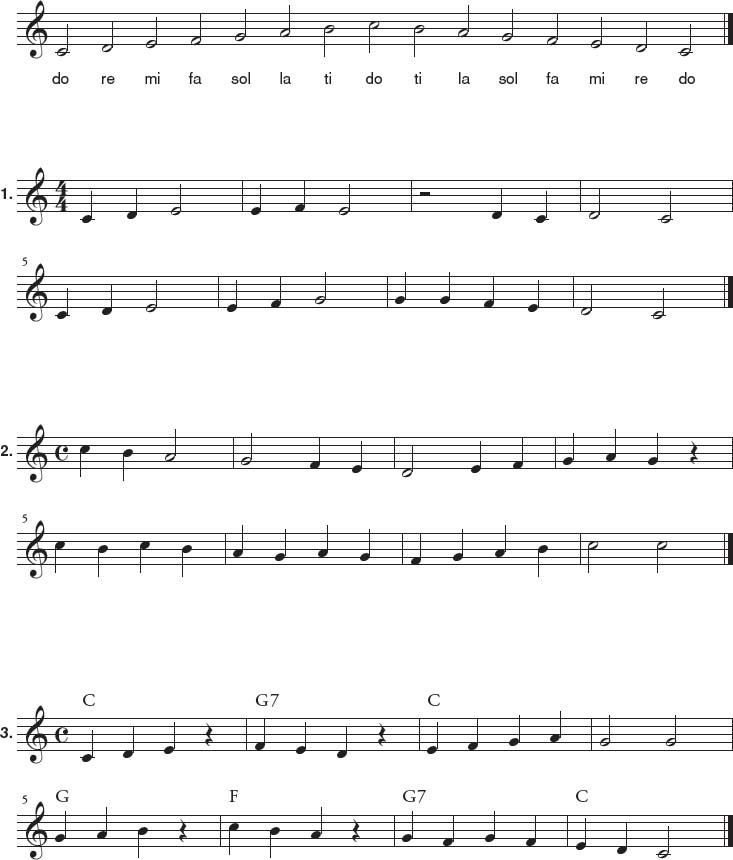half_down: (587, 541, 599, 574), (655, 539, 667, 572), (322, 23, 334, 56), (367, 19, 379, 52), (412, 23, 424, 56)
half_up: (57, 24, 69, 56), (101, 20, 113, 52), (145, 15, 157, 47), (189, 12, 201, 44), (234, 8, 246, 40), (279, 4, 291, 36), (170, 183, 182, 215), (338, 182, 350, 214), (457, 4, 469, 36), (501, 8, 513, 40), (546, 12, 558, 44), (590, 15, 602, 47), (635, 19, 647, 51), (679, 23, 691, 55), (659, 190, 671, 222), (588, 186, 600, 218), (580, 283, 592, 315), (145, 279, 157, 311), (314, 271, 326, 303), (652, 287, 664, 319), (401, 444, 413, 476), (240, 432, 252, 464), (164, 428, 176, 460), (600, 715, 611, 747), (665, 714, 676, 746), (658, 826, 669, 858)
quarter_down: (80, 445, 90, 478), (122, 448, 132, 481), (54, 539, 64, 572), (97, 543, 107, 576), (139, 540, 149, 573), (181, 543, 191, 576), (537, 542, 547, 575), (229, 823, 239, 855), (269, 825, 279, 857), (138, 827, 148, 858)
quarter_up: (82, 190, 93, 223), (126, 186, 137, 219), (250, 182, 261, 215), (294, 178, 305, 211), (491, 186, 502, 219), (536, 189, 547, 222), (528, 279, 539, 312), (483, 275, 494, 308), (439, 271, 450, 304), (395, 271, 406, 304), (270, 274, 281, 307), (226, 279, 237, 312), (101, 282, 112, 315), (57, 285, 68, 318), (309, 436, 320, 469), (351, 439, 362, 472), (470, 440, 481, 473), (512, 436, 523, 469), (563, 431, 574, 464), (605, 428, 616, 461), (647, 431, 658, 464), (495, 524, 506, 557), (452, 528, 463, 561), (410, 531, 421, 564), (358, 527, 369, 560), (317, 524, 328, 557), (275, 527, 286, 560), (232, 524, 243, 557), (549, 710, 560, 743), (509, 714, 520, 747), (467, 717, 478, 750), (427, 720, 438, 753), (336, 725, 347, 758), (295, 721, 306, 754), (254, 718, 265, 751), (164, 721, 175, 754), (123, 725, 134, 758), (82, 729, 93, 762), (55, 809, 66, 842), (96, 806, 107, 839), (311, 805, 322, 838), (402, 809, 413, 842), (443, 812, 454, 845), (484, 808, 495, 841), (525, 814, 536, 847), (575, 816, 586, 849), (616, 820, 627, 853)
rest: (418, 191, 431, 196)
rest_quarter: (179, 818, 188, 842), (203, 721, 212, 745), (376, 722, 385, 746), (350, 819, 359, 843), (690, 441, 698, 465)
